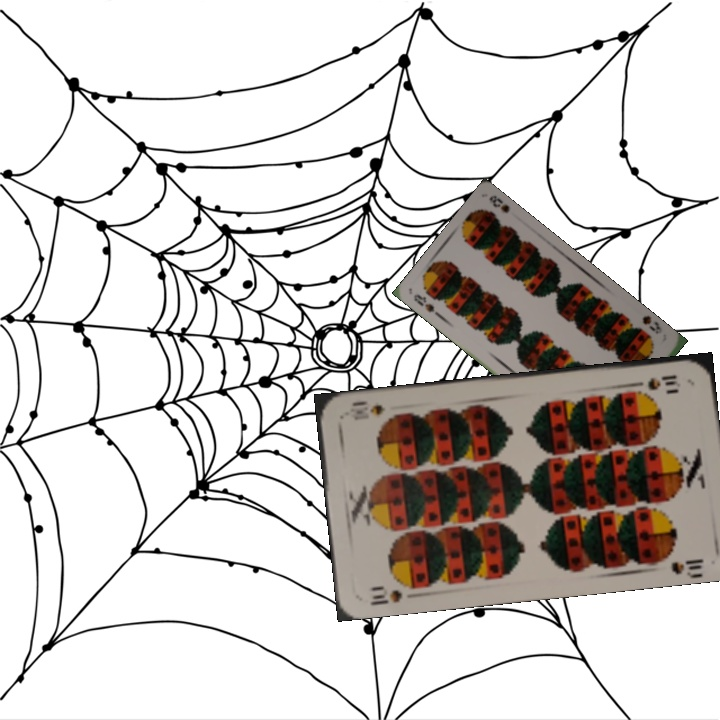S10: (629, 371, 683, 393), (366, 582, 405, 608)
S8: (409, 290, 444, 320), (638, 312, 665, 337)
